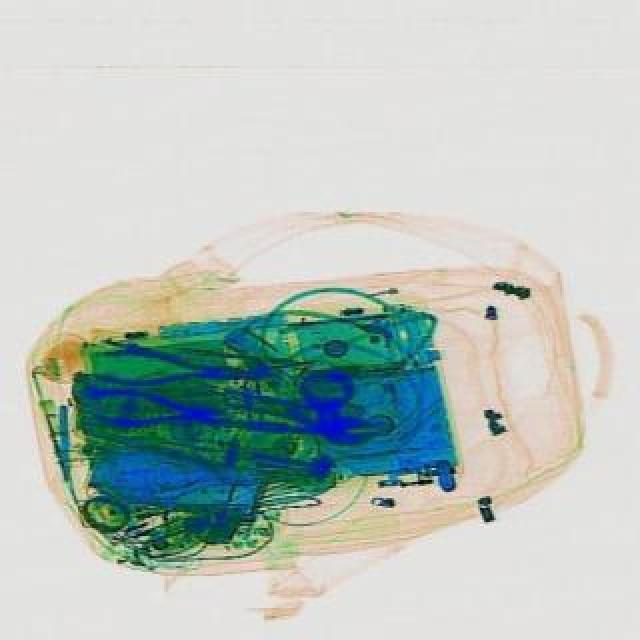scissors: (238, 406, 378, 446)
wrench: (98, 344, 264, 392), (82, 384, 224, 434)
